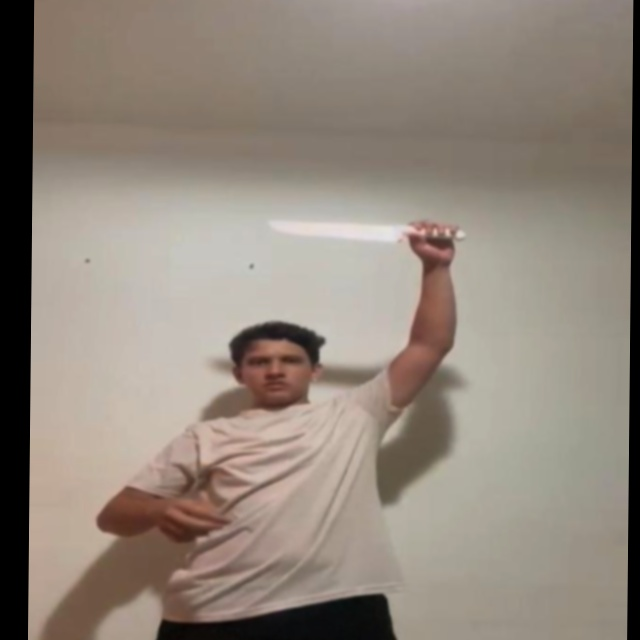Sharp-Object: (265, 217, 400, 240)
